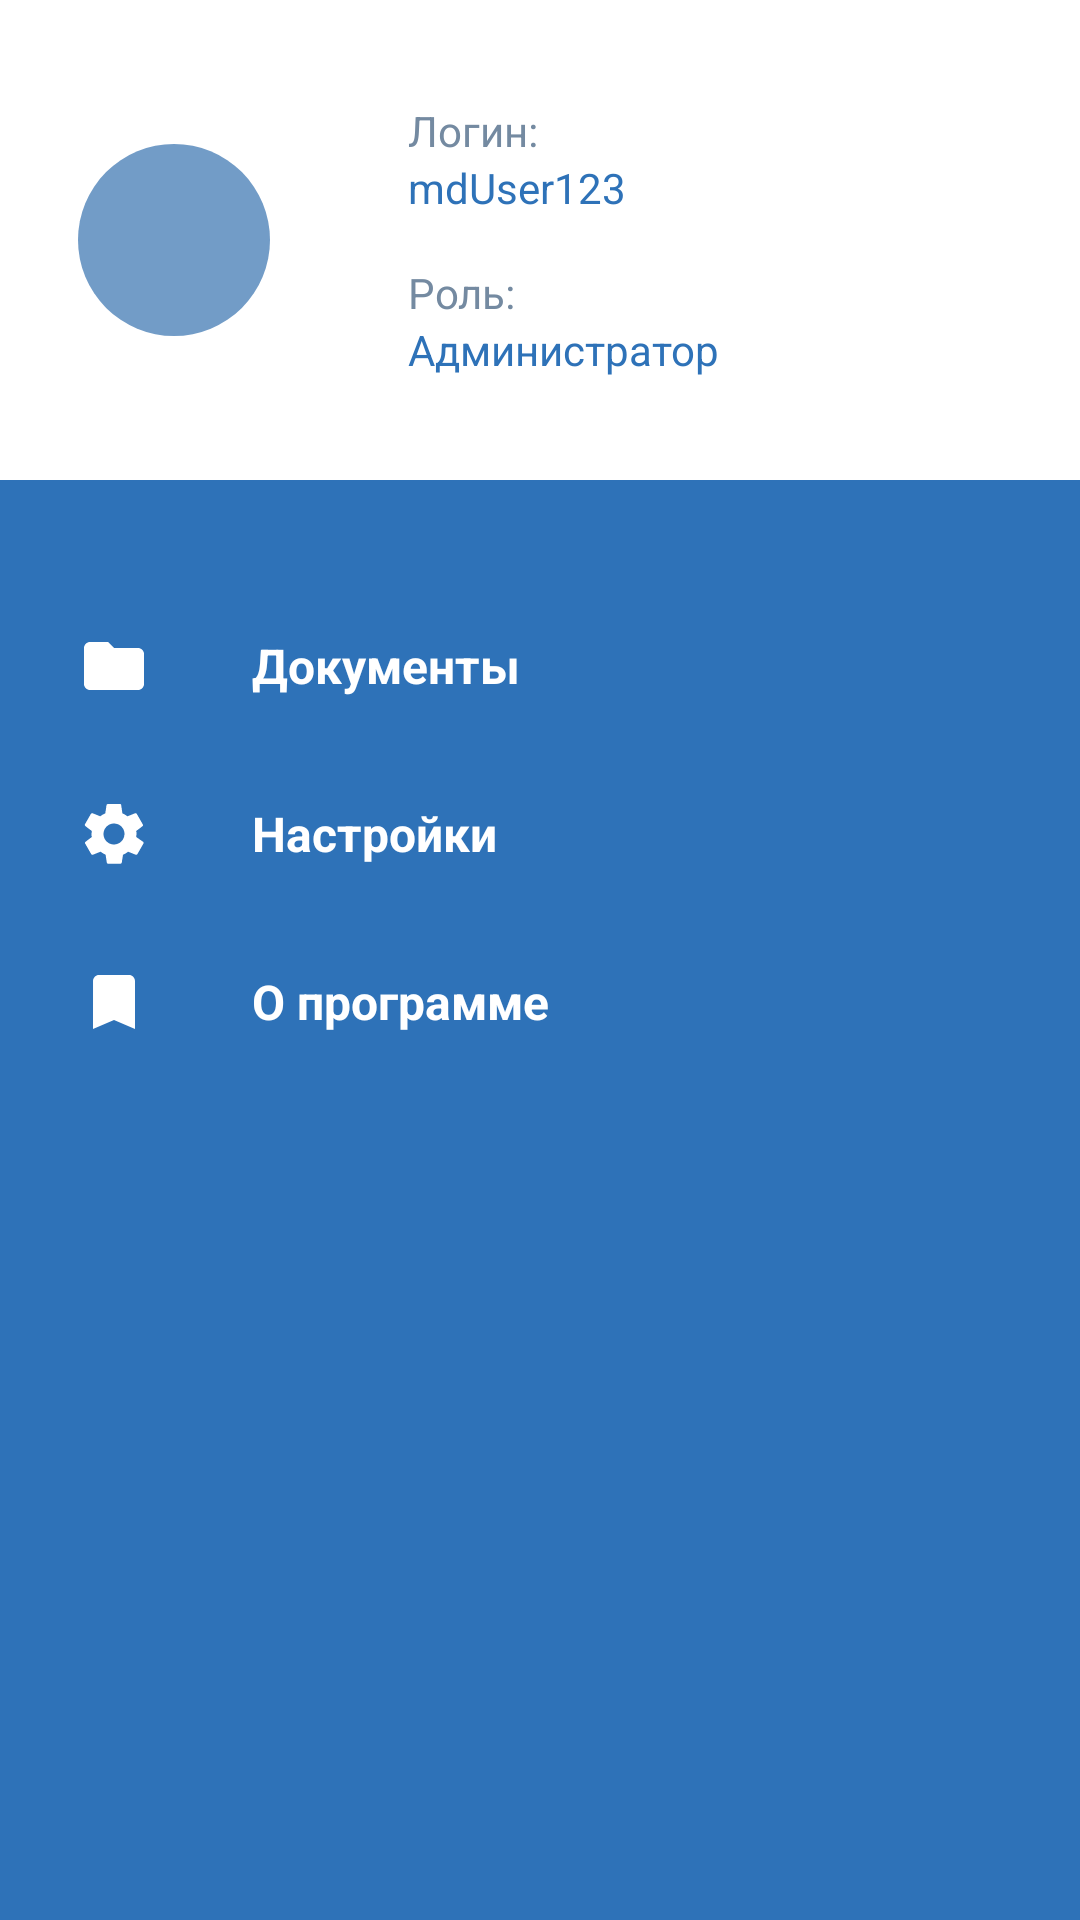

Where to tap for icons on this 1080px x 1920px app screen, as [x,y]:
bookmark: [114,1002]
document: [114,666]
settings: [114,834]
